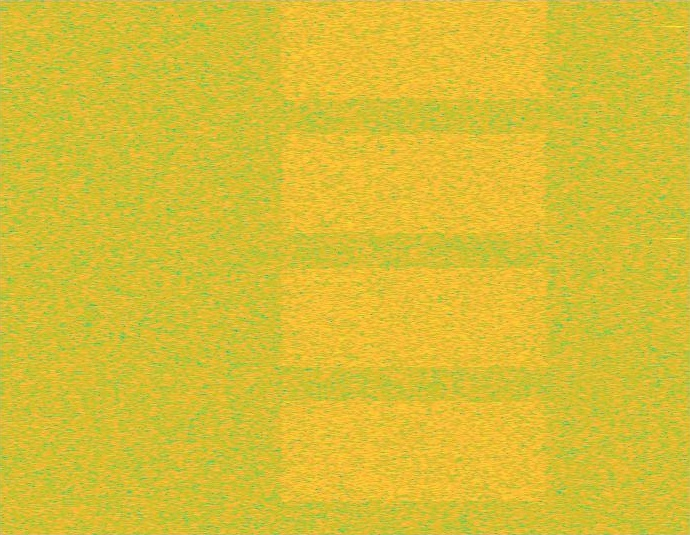5G: (276, 0, 552, 534)
Radar: (667, 0, 681, 534)
